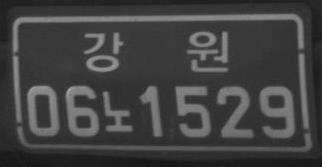0: (24, 84, 59, 138)
1: (136, 84, 168, 137)
2: (215, 84, 255, 140)
5: (173, 84, 212, 138)
6: (64, 84, 100, 138)
9: (258, 84, 297, 140)
강원_D: (82, 30, 230, 75)
노: (101, 90, 134, 133)
